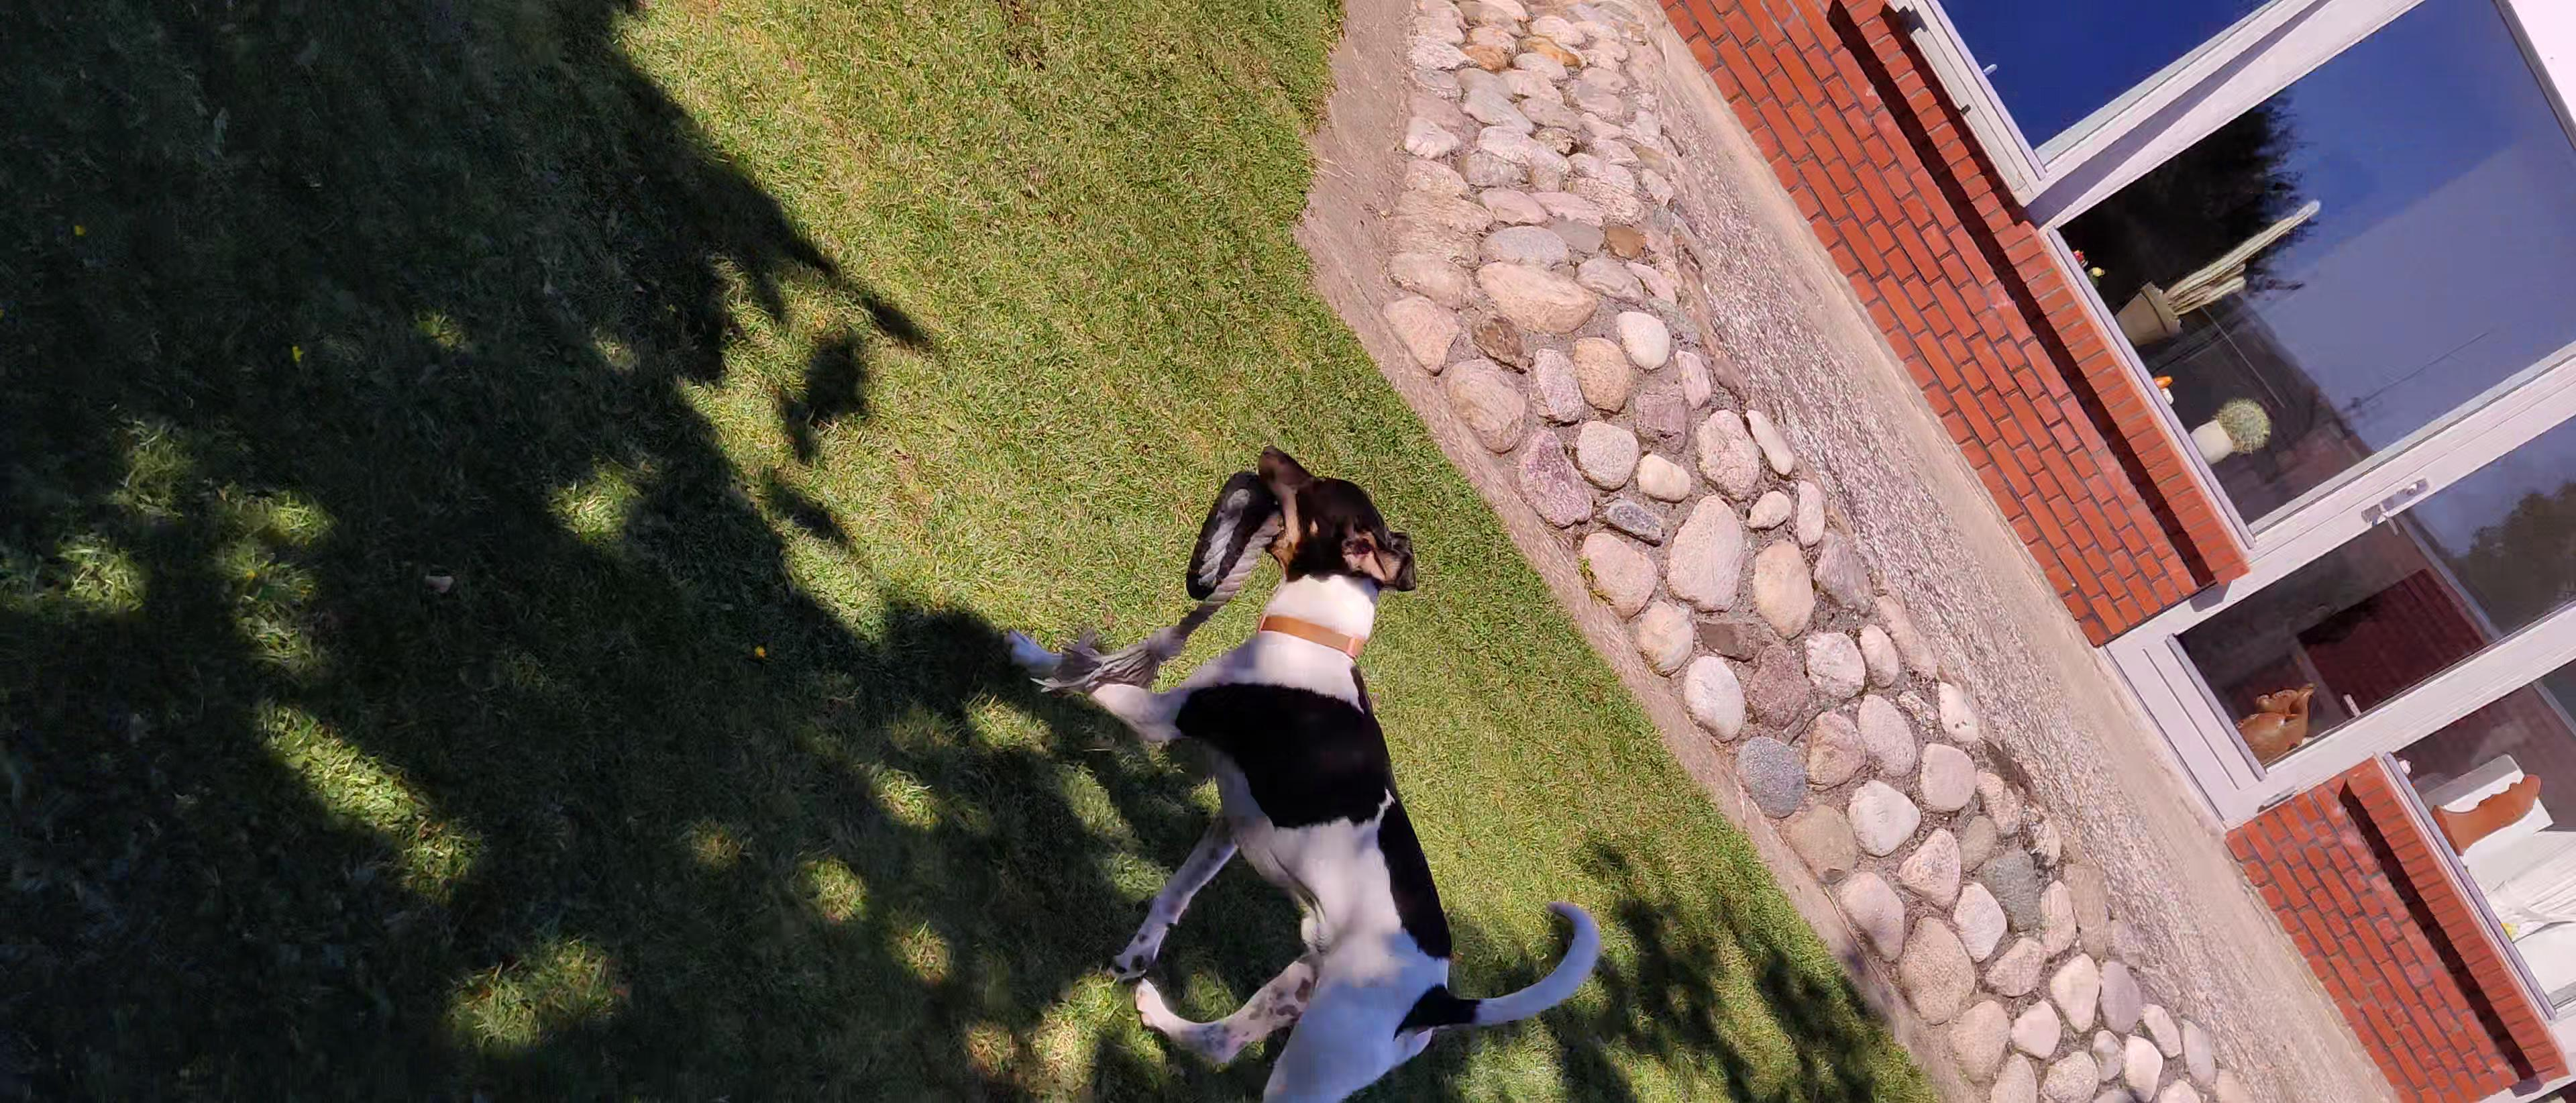Dog: (991, 439, 1613, 1103)
